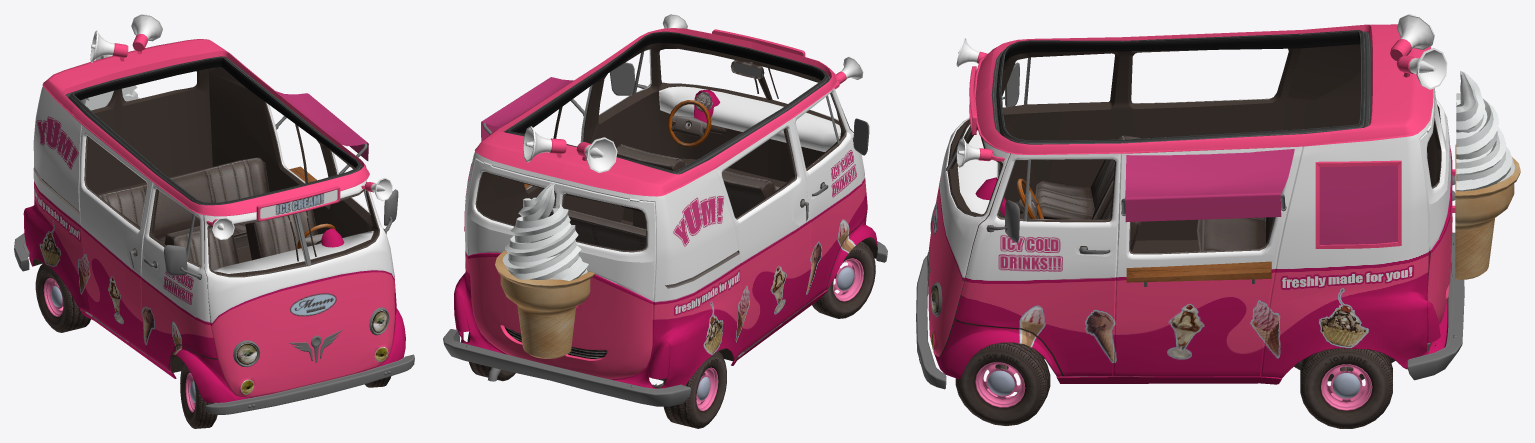
File: car1.glb
3 renders of one model, left to right at view 1: azimuth 30°, elevation 25°; view 2: azimuth 150°, elevation 25°; view 3: azimuth 270°, elevation 25°, orthographic. The views are drawn at different scales.
Visible parts, largest first — view 1: node_id163, node_id165, node_id72, node_id167, node_id146, node_id175, node_id151, node_id98, node_id84, node_id79, node_id125, node_id173 (+9 smaller); view 2: node_id163, node_id165, node_id144, node_id140, node_id167, node_id72, node_id148, node_id98, node_id175, node_id151, node_id79, node_id118 (+10 smaller); view 3: node_id163, node_id165, node_id151, node_id167, node_id93, node_id72, node_id144, node_id140, node_id111, node_id104, node_id98, node_id158 (+11 smaller).
Part boxes in pixels (box(x1,y1,x2,y2)): node_id163: box(23, 39, 405, 403); node_id165: box(32, 67, 395, 397); node_id72: box(98, 157, 317, 269); node_id167: box(65, 56, 362, 205); node_id146: box(205, 354, 414, 414); node_id175: box(33, 102, 379, 277); node_id151: box(276, 91, 368, 160); node_id98: box(90, 14, 162, 62); node_id84: box(256, 186, 340, 221); node_id79: box(129, 189, 398, 279); node_id125: box(35, 265, 68, 329); node_id173: box(186, 190, 389, 367); node_id163: box(454, 28, 877, 388); node_id165: box(477, 43, 877, 361); node_id144: box(502, 183, 588, 280); node_id140: box(495, 251, 594, 358); node_id167: box(504, 31, 830, 174); node_id72: box(522, 144, 780, 250); node_id148: box(443, 329, 690, 406); node_id98: box(523, 126, 617, 172); node_id175: box(475, 49, 846, 288); node_id151: box(481, 77, 573, 141); node_id79: box(609, 62, 869, 221); node_id118: box(824, 245, 875, 315); node_id163: box(928, 24, 1452, 384); node_id165: box(939, 44, 1441, 376); node_id151: box(1125, 149, 1294, 222); node_id167: box(991, 30, 1371, 144); node_id93: box(1319, 165, 1397, 244); node_id72: box(1035, 135, 1273, 251); node_id144: box(1456, 71, 1514, 191); node_id140: box(1455, 144, 1520, 279); node_id111: box(1305, 349, 1388, 426); node_id104: box(959, 346, 1042, 423); node_id98: box(1390, 14, 1447, 89); node_id158: box(1126, 261, 1271, 282).
Bounding box in the file's own units: 0.5053 × 0.511 × 0.8367.
Materials: 56 (56 with a texture image).
